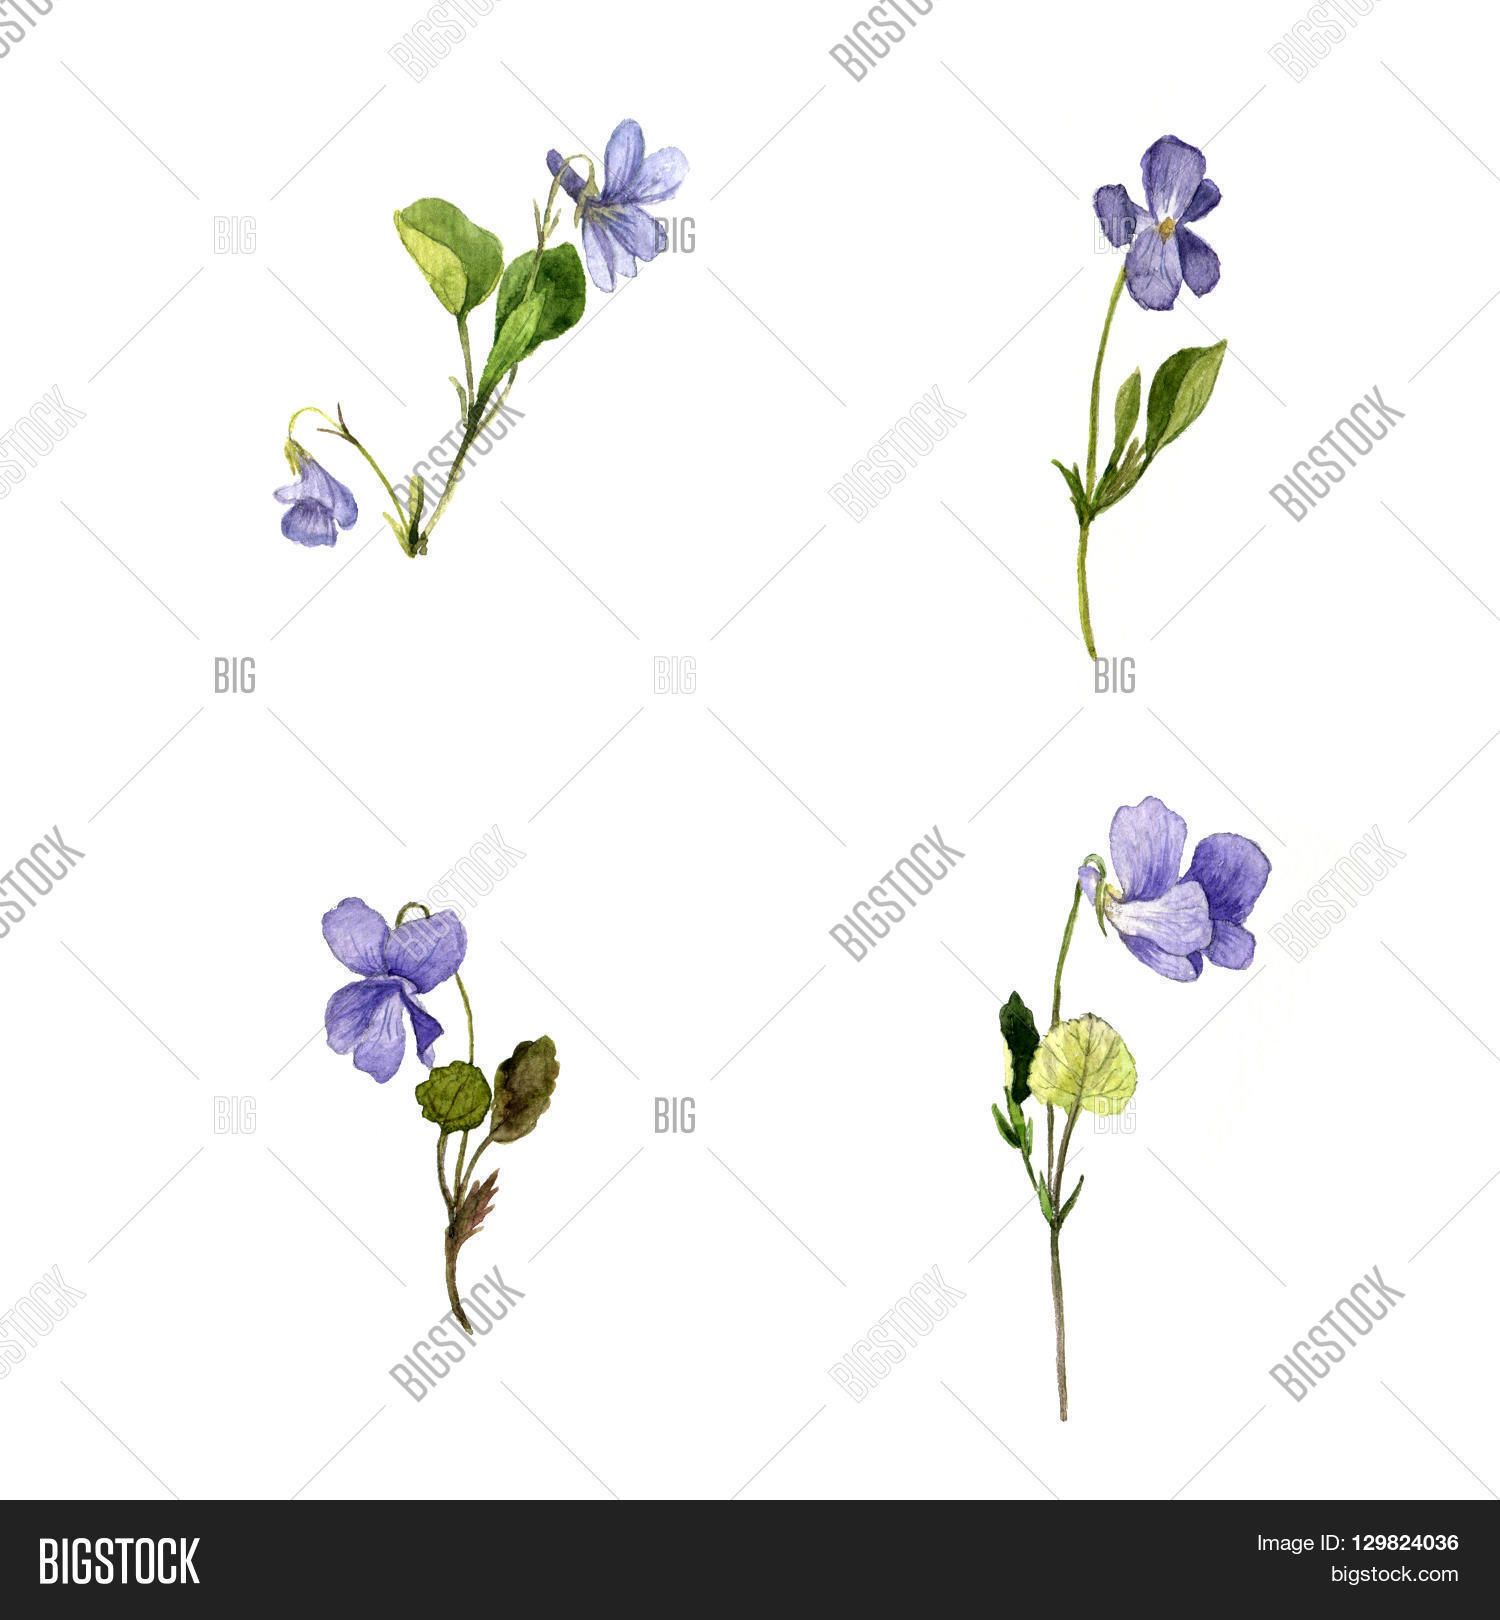violet: (291, 859, 485, 1098), (1048, 809, 1277, 995), (1087, 140, 1259, 356), (519, 143, 687, 260), (267, 442, 349, 549)
